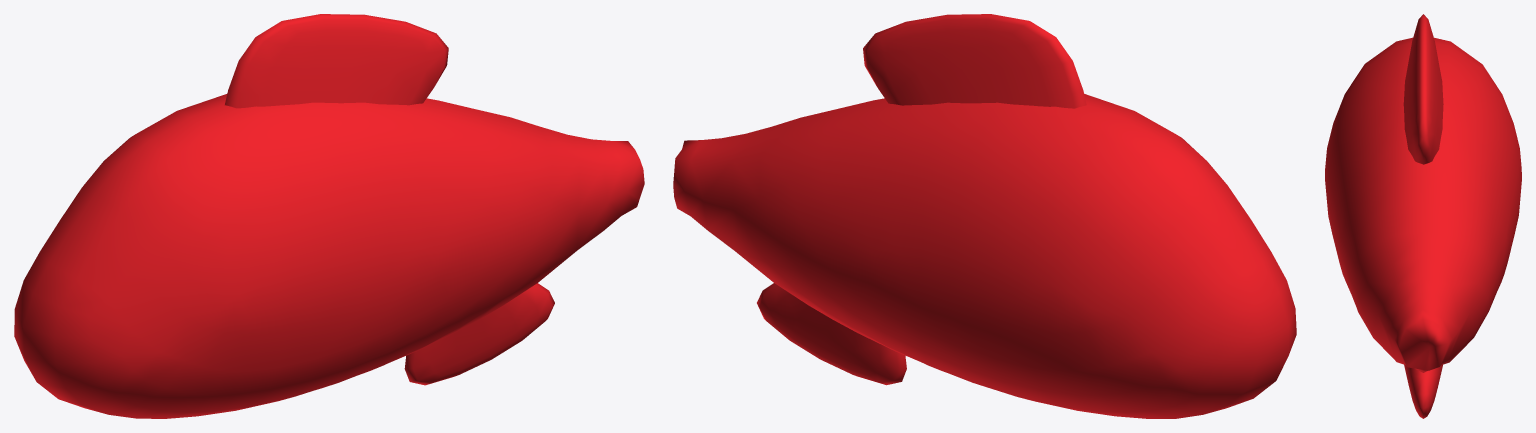
Rendered from fish_main_red.glb.
3 renders of one model, left to right at view 1: azimuth 30°, elevation 25°; view 2: azimuth 150°, elevation 25°; view 3: azimuth 270°, elevation 25°, orthographic. The views are drawn at different scales.
Parts seen in each view (by area): view 1: node_id6; view 2: node_id6; view 3: node_id6.
Boxes of the visible parts, x1,y1,x2,y2 form: node_id6: (14, 14, 644, 418); node_id6: (673, 14, 1296, 418); node_id6: (1325, 14, 1521, 418).
Bounding box in the file's own units: 0.512 × 0.3218 × 0.1769.
Materials: 1 (1 with a texture image).
